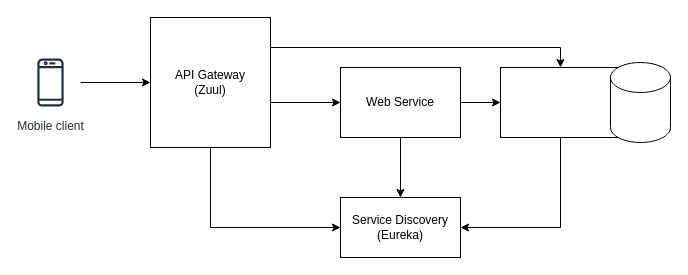
This 688x275 diagram has some shape labels left out. Each missing label, with the centre of its shape:
"Accounts Service" belongs at pixel 560 102.
"DB" belongs at pixel 640 102.
